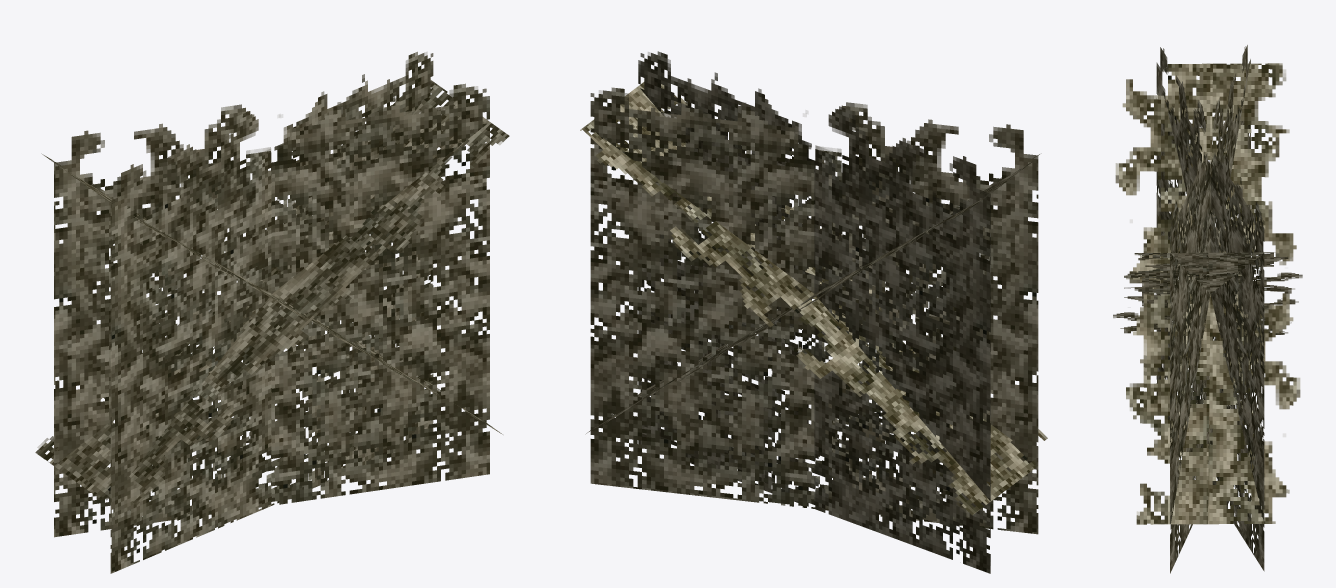
The model's file is bush_tall_full_overgrown_dead.glb.
3 views of the same model, side by side, from view 1: azimuth 30°, elevation 25°; view 2: azimuth 150°, elevation 25°; view 3: azimuth 270°, elevation 25° (orthographic). The views are drawn at different scales.
Visible parts, largest first — view 1: bush_tall_full_overgrown_dead; view 2: bush_tall_full_overgrown_dead; view 3: bush_tall_full_overgrown_dead.
Boxes of the visible parts, <box> form: bush_tall_full_overgrown_dead: <box>35,51,509,573</box>; bush_tall_full_overgrown_dead: <box>580,51,1047,573</box>; bush_tall_full_overgrown_dead: <box>1113,45,1302,573</box>.
Size of the model in its own units: 2 by 2.06 by 1.08.
Materials: 1 (1 with a texture image).
